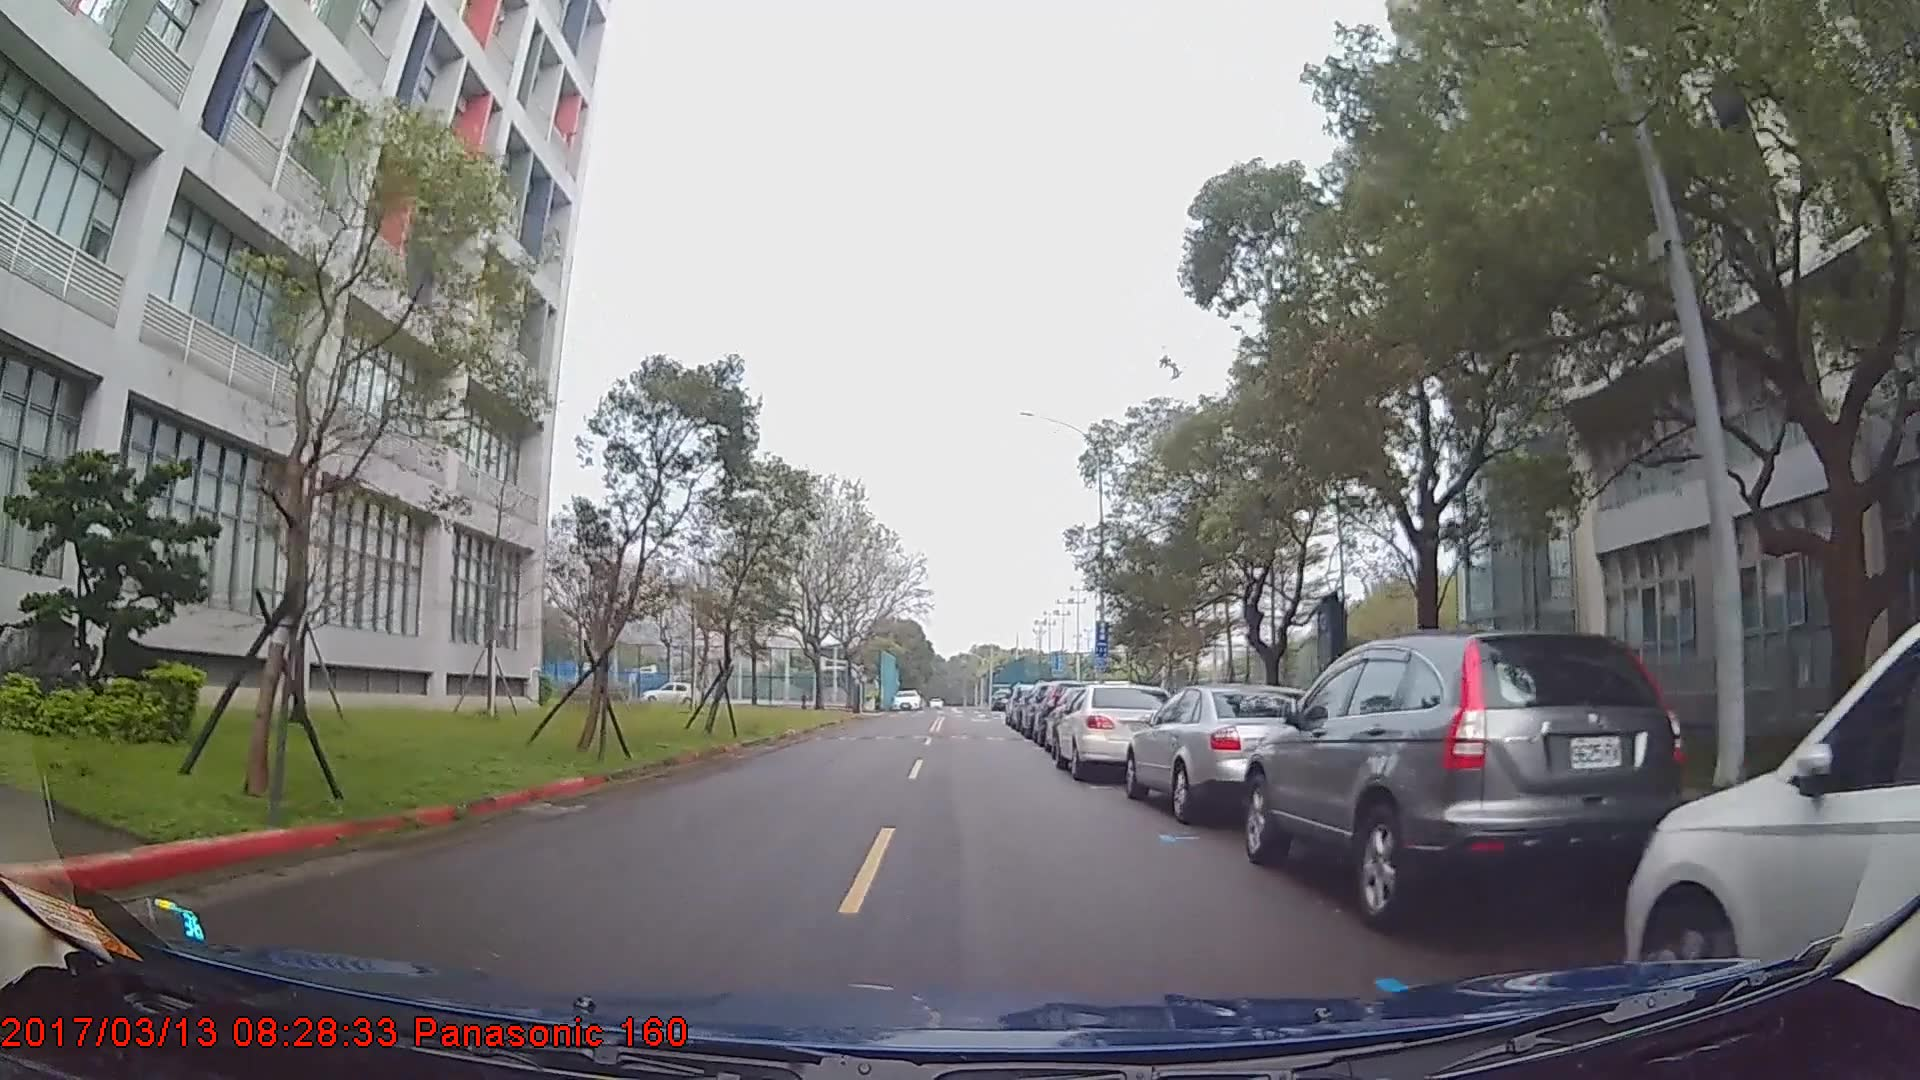vehicle: (1244, 628, 1684, 934), (1621, 618, 1920, 1005), (1122, 680, 1323, 824), (1052, 680, 1180, 782), (641, 676, 696, 703)
